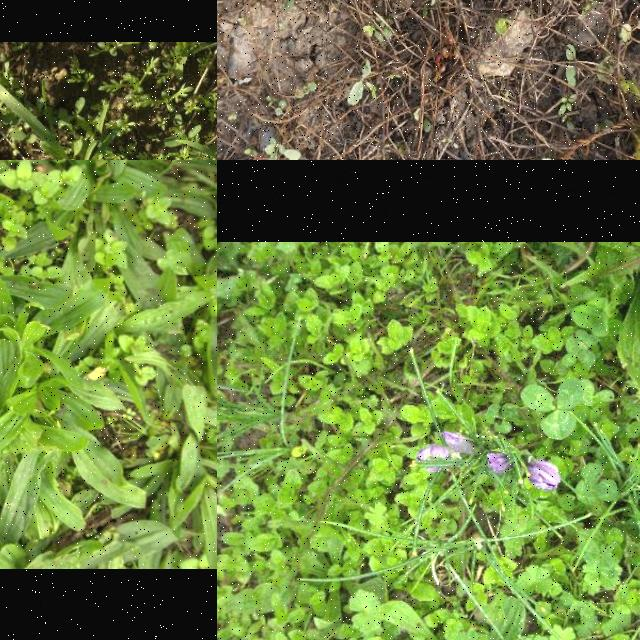flower: (528, 461, 562, 491), (486, 452, 514, 473)
overlap: (417, 432, 478, 474)
